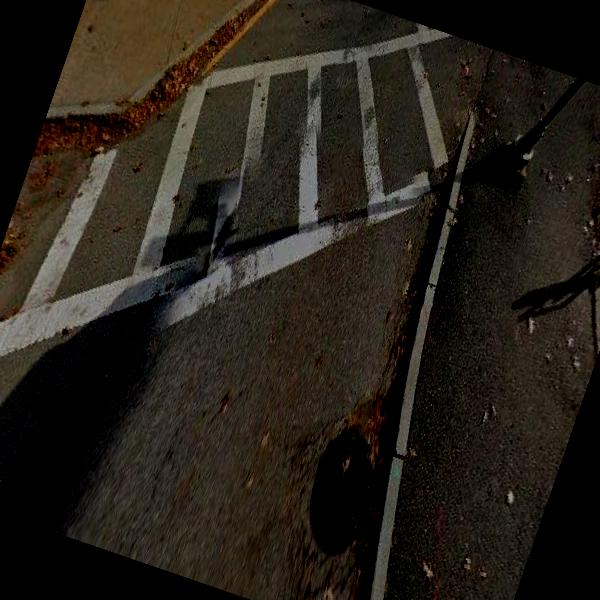manhole: (285, 416, 401, 573)
